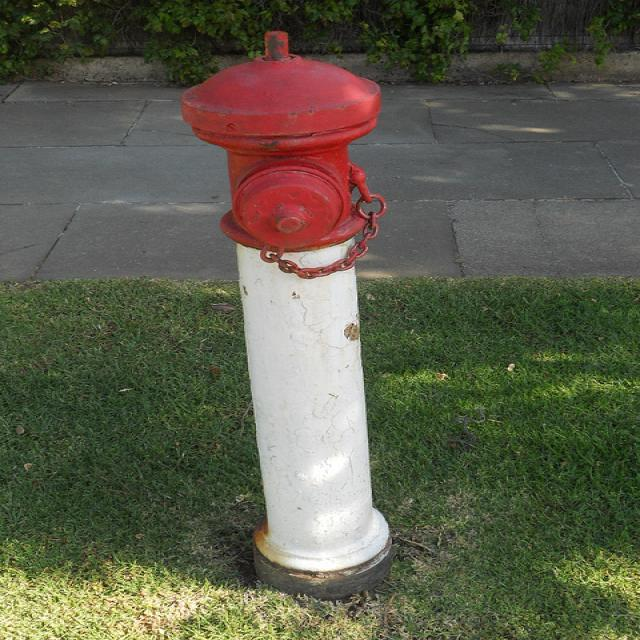fire_hydrant: (184, 27, 395, 606)
